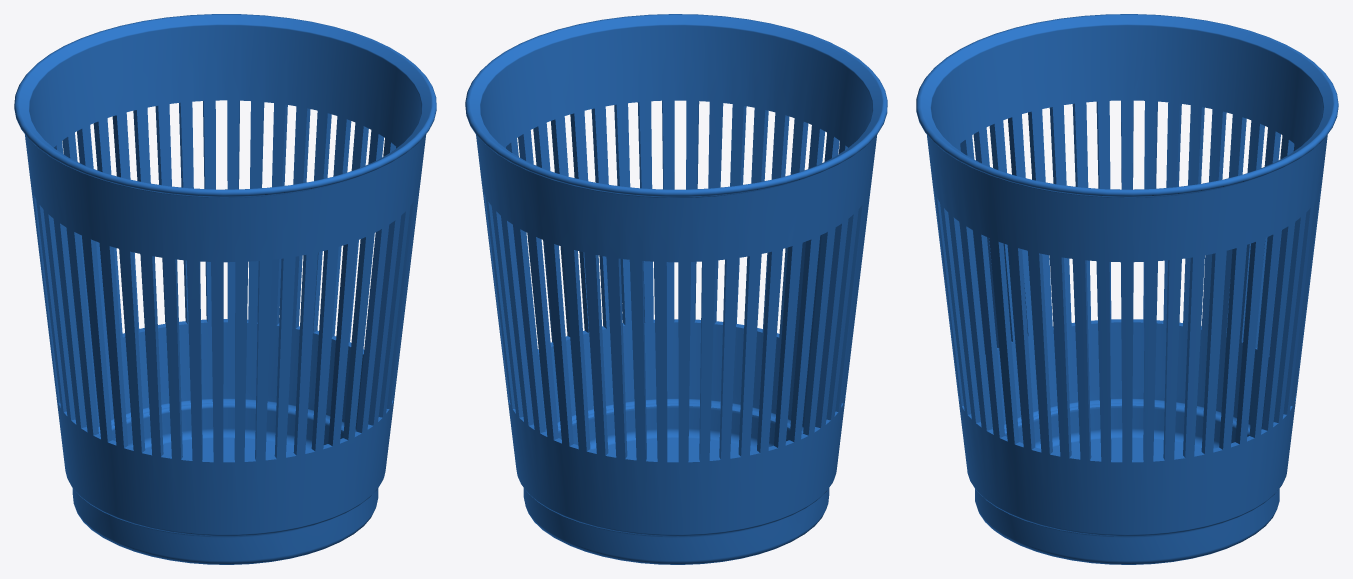
The model's file is basurero.glb.
3 renders of one model, left to right at view 1: azimuth 30°, elevation 25°; view 2: azimuth 150°, elevation 25°; view 3: azimuth 270°, elevation 25°, orthographic.
Visible parts, largest first — view 1: Object_2; view 2: Object_2; view 3: Object_2.
Boxes of the visible parts, x1,y1,x2,y2 form: Object_2: [14, 14, 436, 564]; Object_2: [465, 14, 887, 564]; Object_2: [916, 14, 1338, 564].
Bounding box in the file's own units: 29.03 × 30.39 × 29.02.
